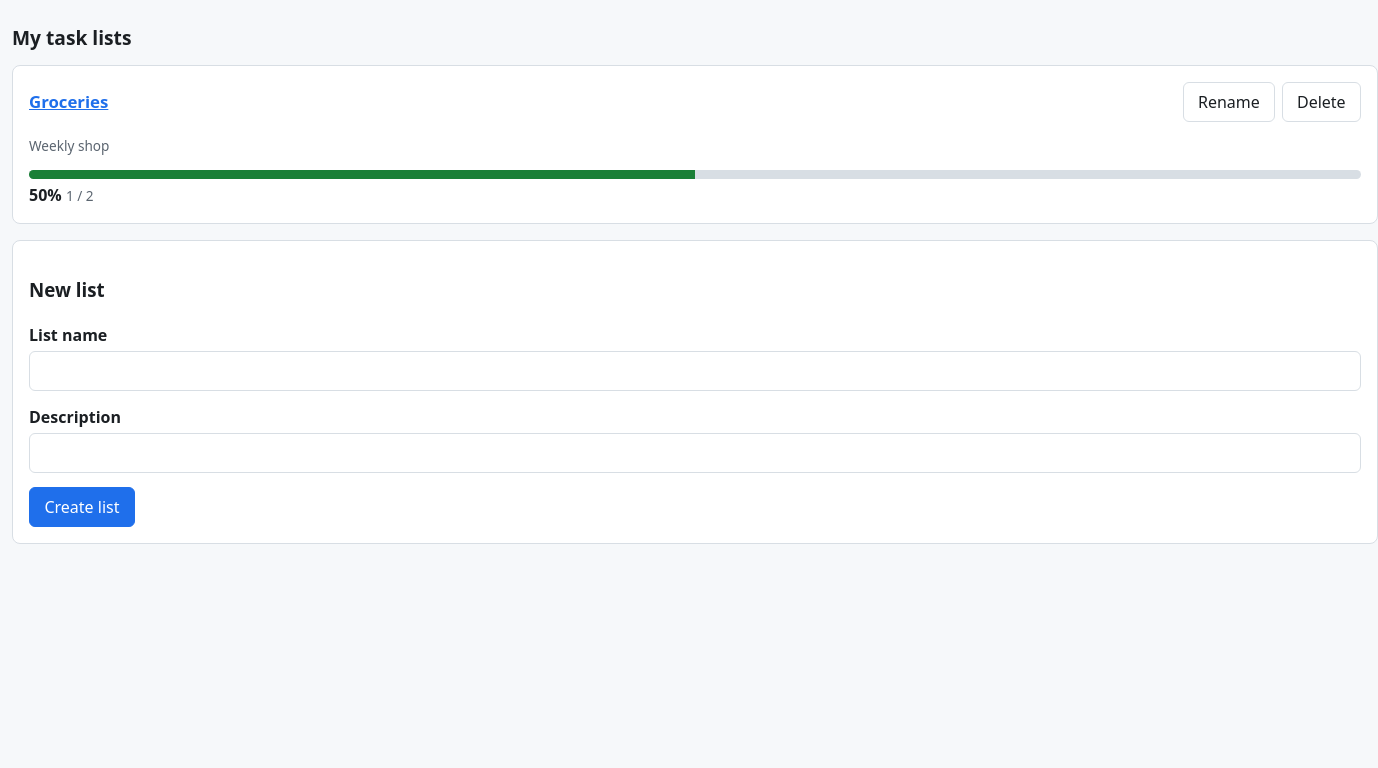
Test: creating a list › renders the API's own duplicate-name sentence
Check: the button "Groceries" is shown, box x1=29 y1=89 x2=108 y2=114
Step 1. Type "Groceries" into the field labelled "List name" → (695, 371), box x1=29 y1=351 x2=1361 y2=391
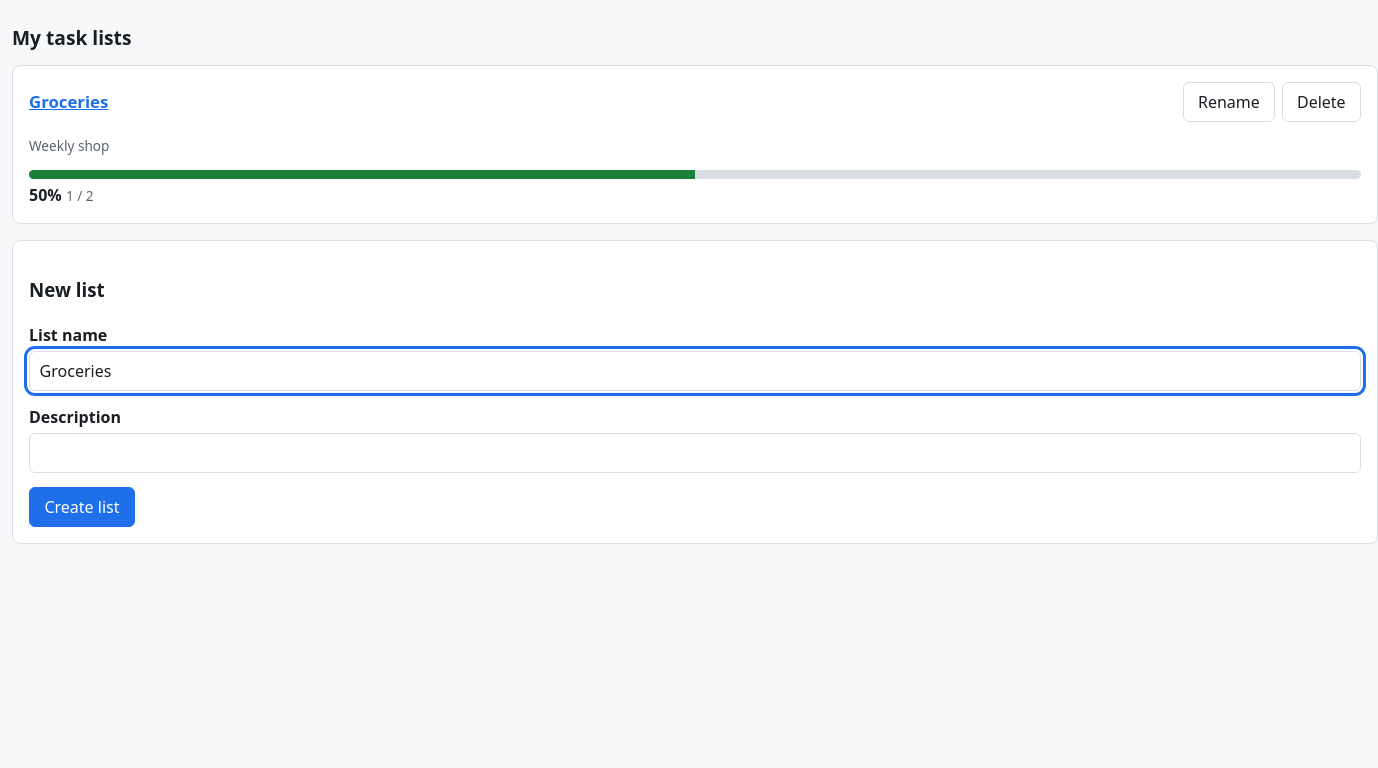
Step 2. Click the button "Create list" → click(82, 507), box x1=29 y1=487 x2=135 y2=527
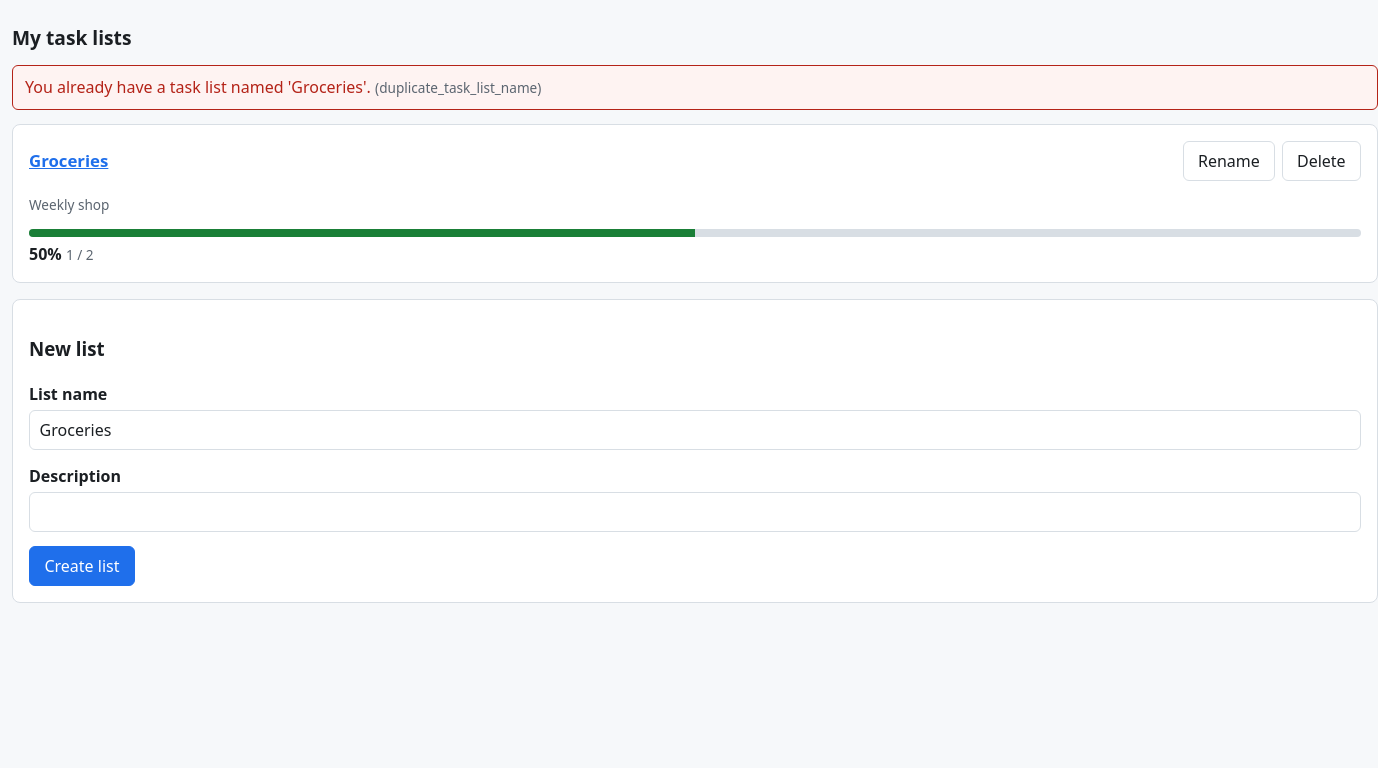
Check: the message shows "You already have a task list named 'Groceries'.", box x1=25 y1=76 x2=371 y2=98
Check: the message shows "duplicate_task_list_name", box x1=379 y1=78 x2=537 y2=97
